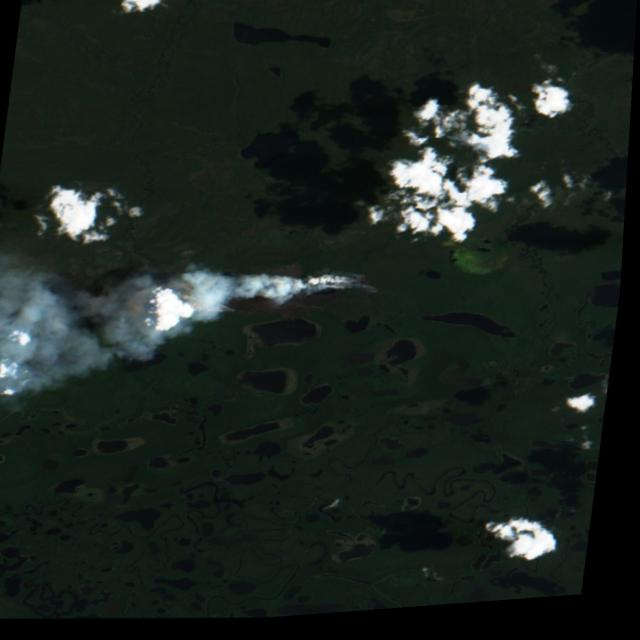fire: (176, 252, 386, 332)
